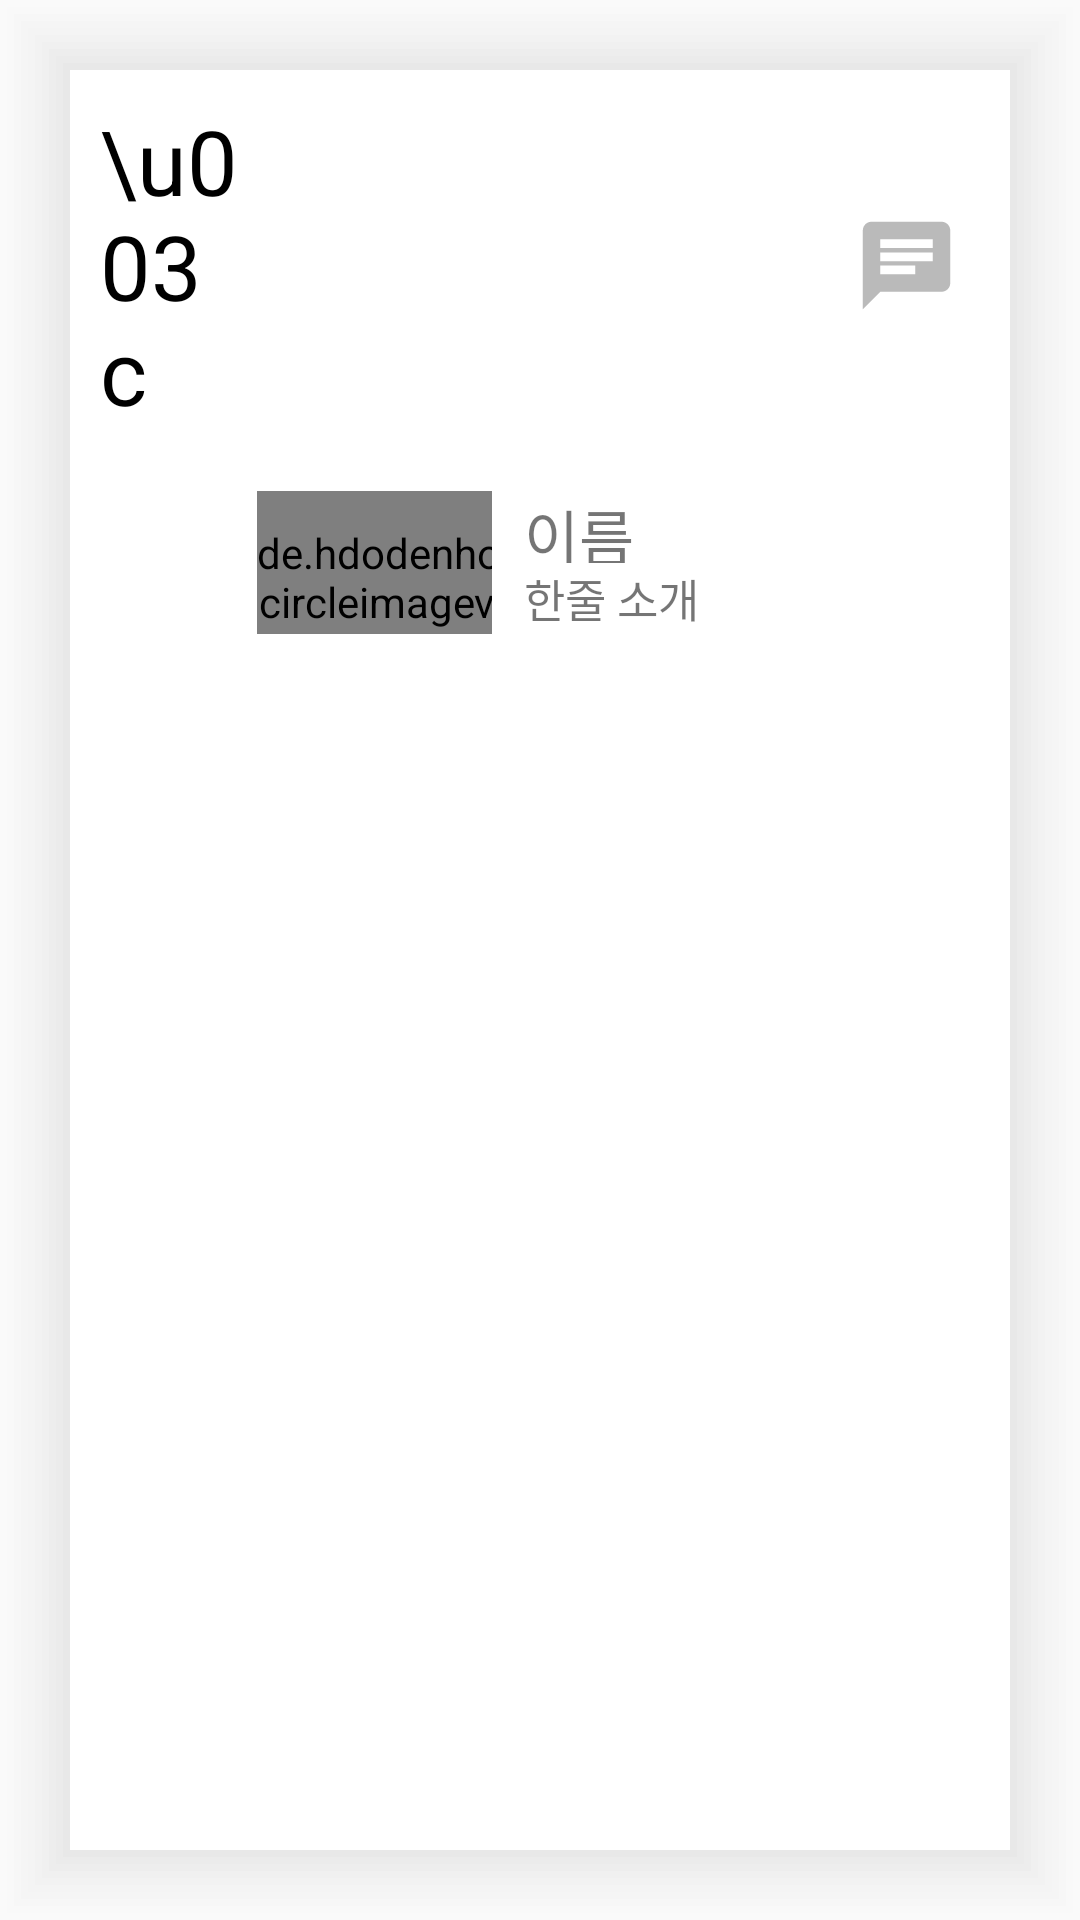

Icon bounding boxes for this 1080 × 1920 phone screenshot, format (x1, y1, x2, y2):
chat: (863, 222, 950, 309)
